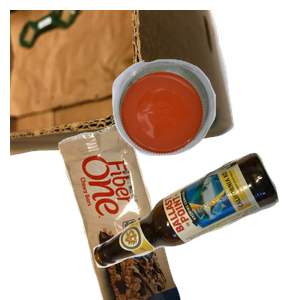cardboard: (10, 10, 237, 158)
glass: (91, 150, 300, 300)
plastic: (110, 57, 300, 205)
trash: (56, 120, 229, 300)
